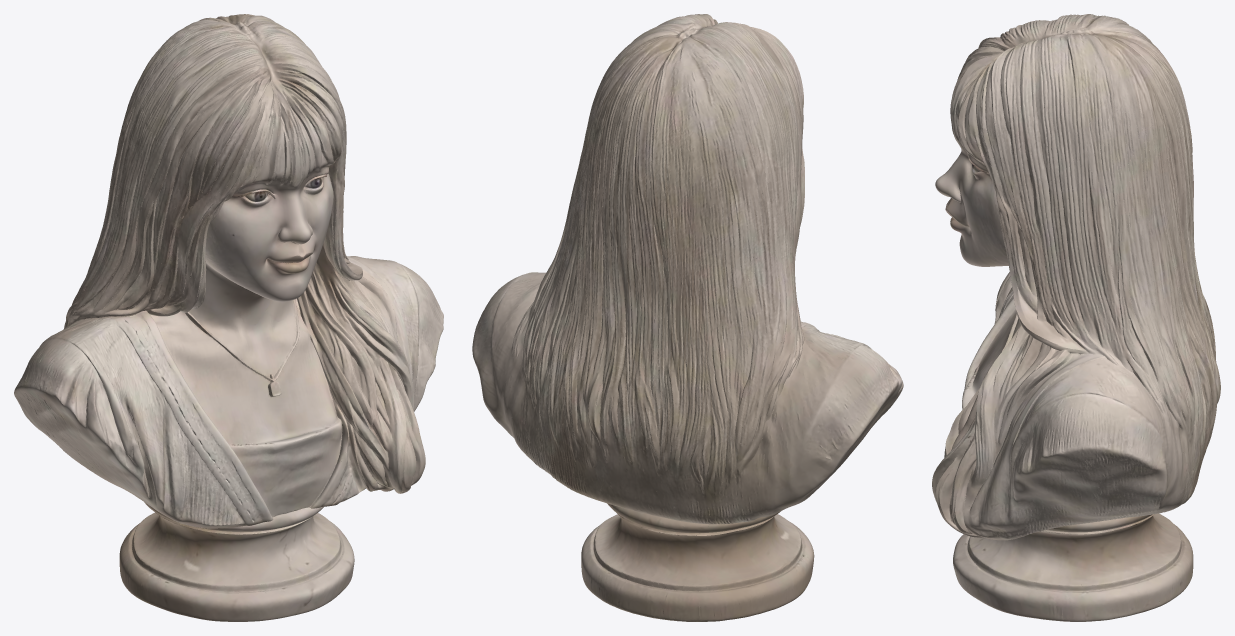
Rendered from 05_김수연.compressed.glb.
3 renders of one model, left to right at view 1: azimuth 30°, elevation 25°; view 2: azimuth 150°, elevation 25°; view 3: azimuth 270°, elevation 25°, orthographic.
Parts seen in each view (by area): view 1: model; view 2: model; view 3: model.
Boxes of the visible parts, bbox=[...] form: model: bbox=[14, 14, 443, 621]; model: bbox=[472, 14, 903, 621]; model: bbox=[932, 14, 1220, 621].
Size of the model in its own units: 1.46 by 1.9 by 0.9052.
Materials: 1 (1 with a texture image).
